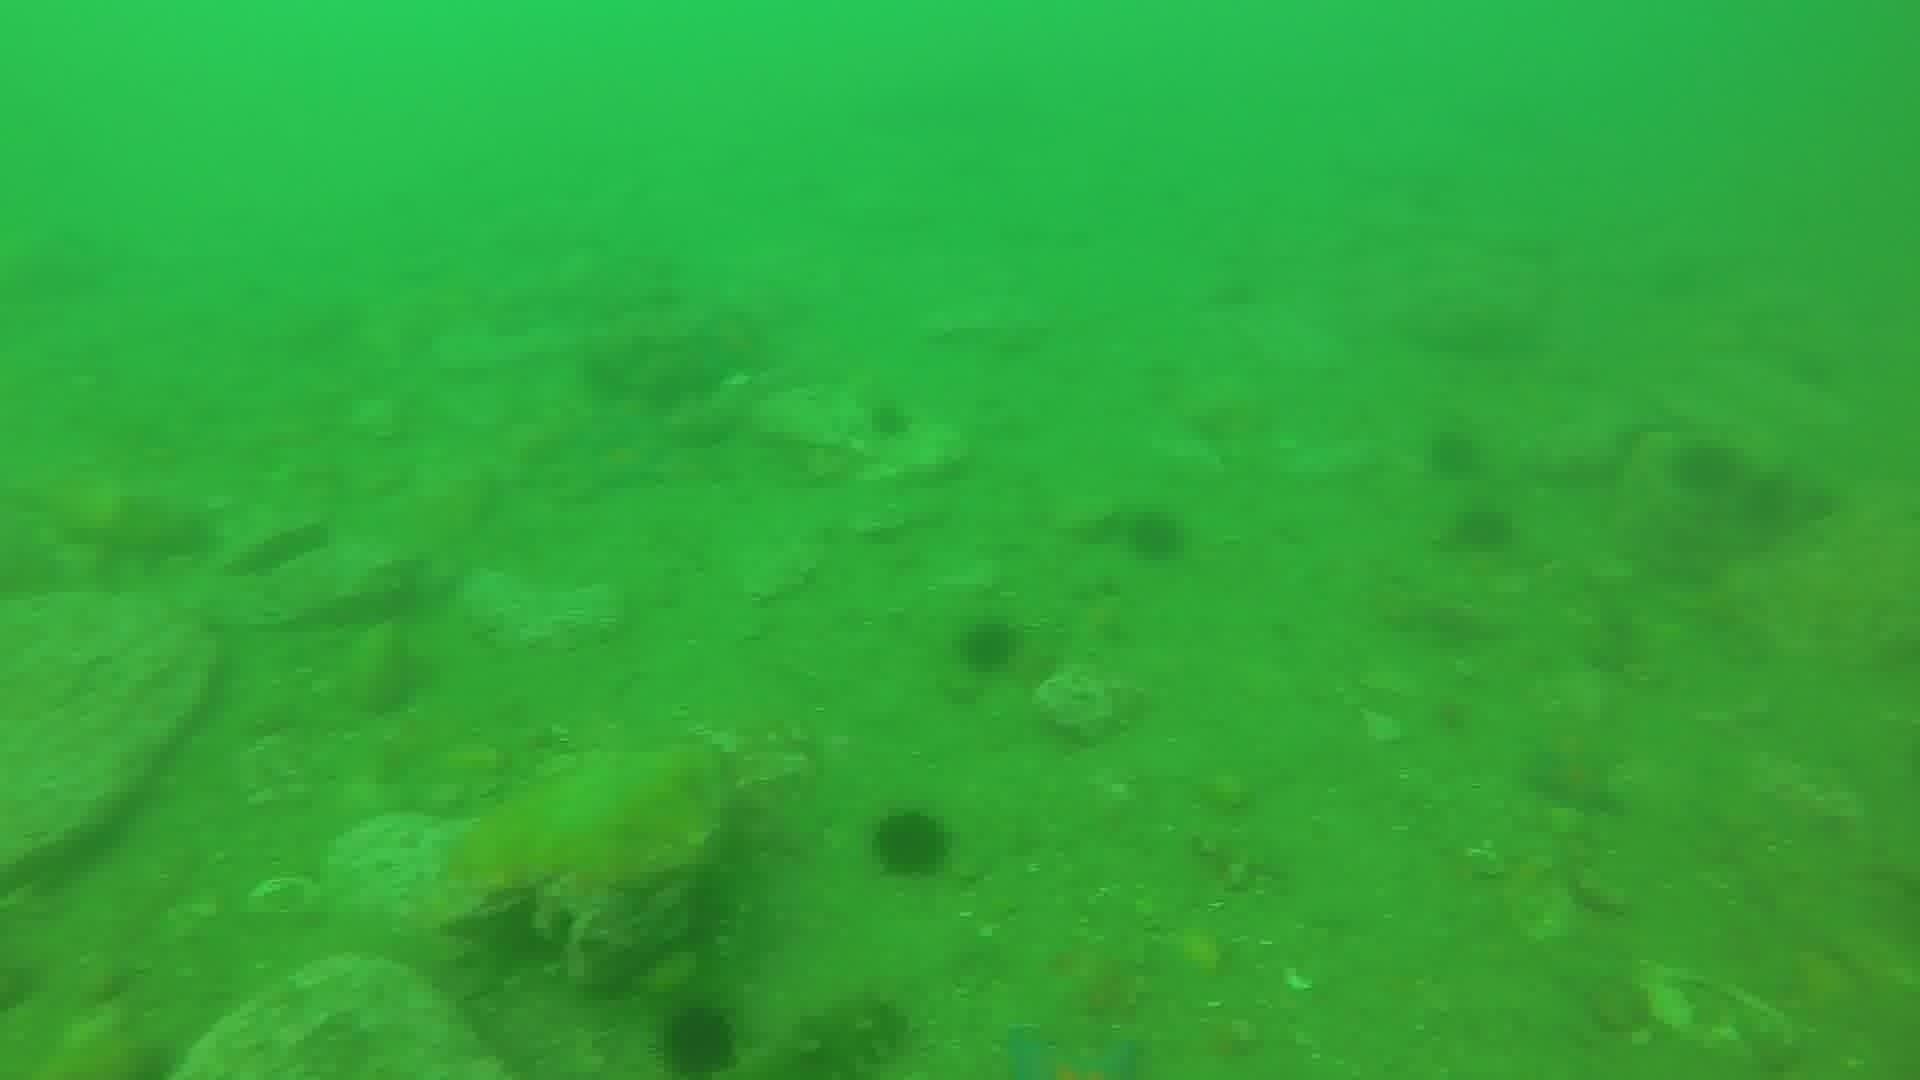echinus: (866, 804, 955, 884), (653, 1000, 744, 1076), (1665, 436, 1746, 502), (952, 613, 1026, 679), (1444, 501, 1520, 560), (1120, 505, 1191, 567), (1422, 425, 1489, 484), (862, 396, 916, 444)
holothurian: (742, 986, 916, 1077)
starfish: (443, 738, 728, 906), (560, 419, 676, 500), (1519, 735, 1629, 818), (997, 1015, 1143, 1076)
